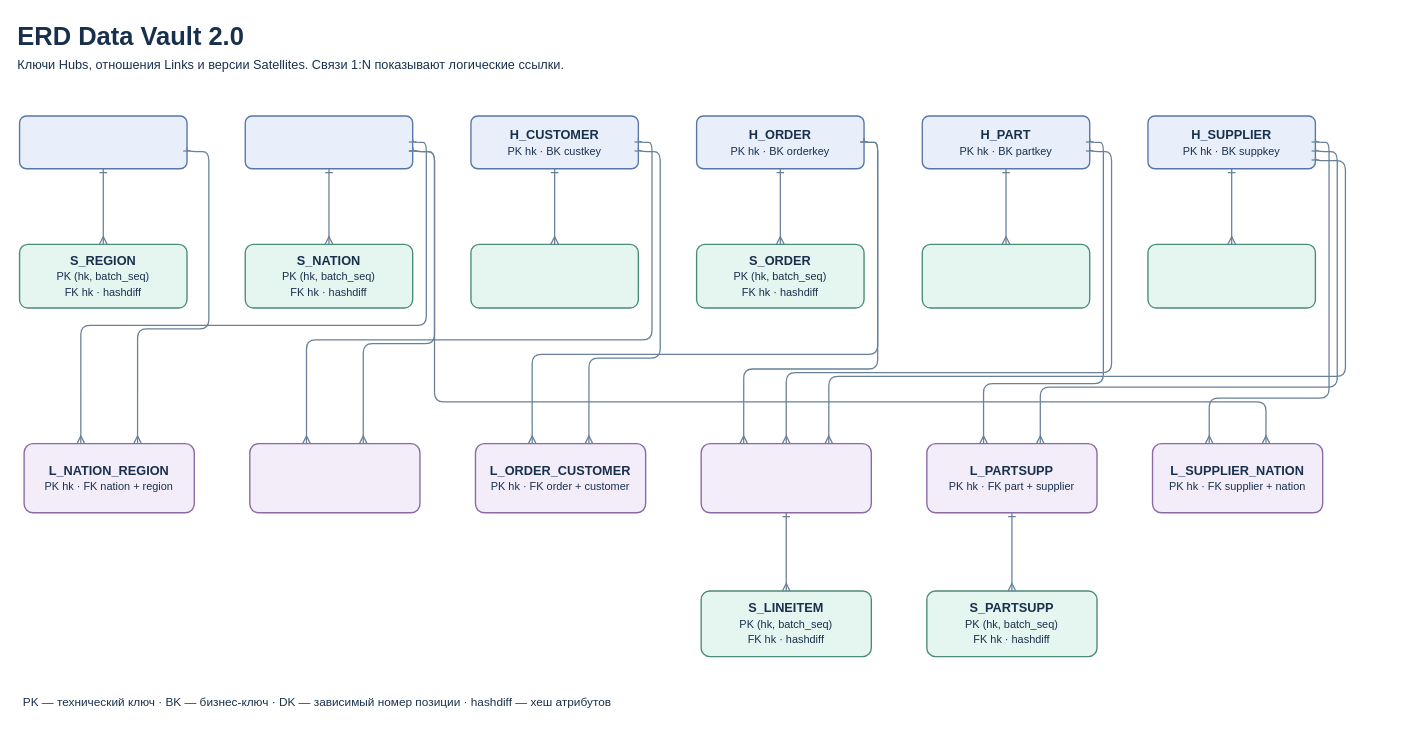
This 1403x730 diagram has some shape labels left out. Here are the shapes that lost their labels. From the top down, the box of each, then its label:
(18, 115, 187, 169): H_REGION PK hk · BK regionkey
(244, 115, 413, 169): H_NATION PK hk · BK nationkey
(470, 243, 639, 308): S_CUSTOMER PK (hk, batch_seq) FK hk · hashdiff
(921, 243, 1090, 308): S_PART PK (hk, batch_seq) FK hk · hashdiff
(1147, 243, 1316, 308): S_SUPPLIER PK (hk, batch_seq) FK hk · hashdiff
(249, 443, 420, 513): L_CUSTOMER_NATION PK hk · FK customer + nation
(700, 443, 872, 513): L_LINEITEM PK hk · FK order + part + supplier DK linenumber
